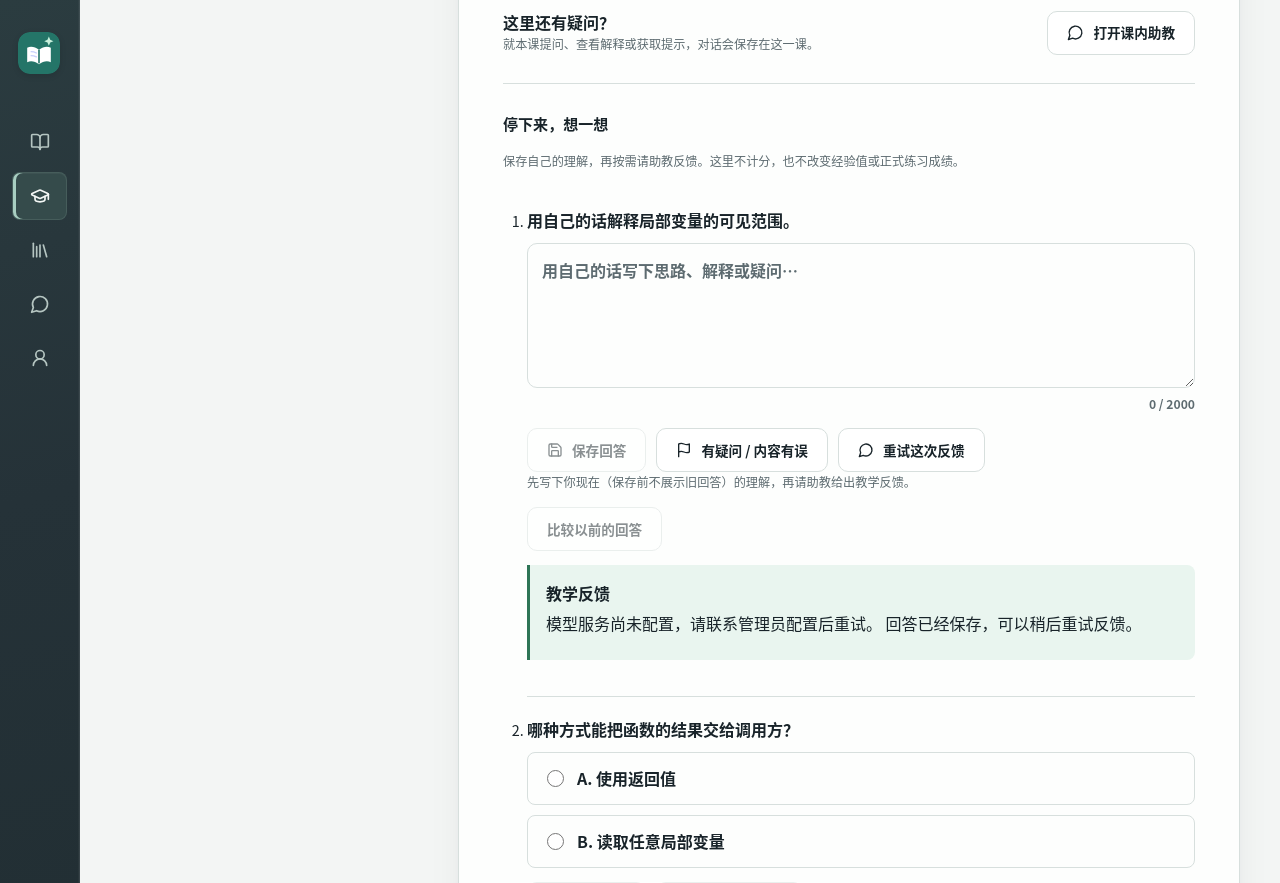
Test case: saved self checks and teaching feedback › retries a failed feedback turn while retaining its saved answer and attempt
(page scrolled)
Click the button "重试这次反馈" at (911, 450), box x1=838 y1=428 x2=985 y2=472
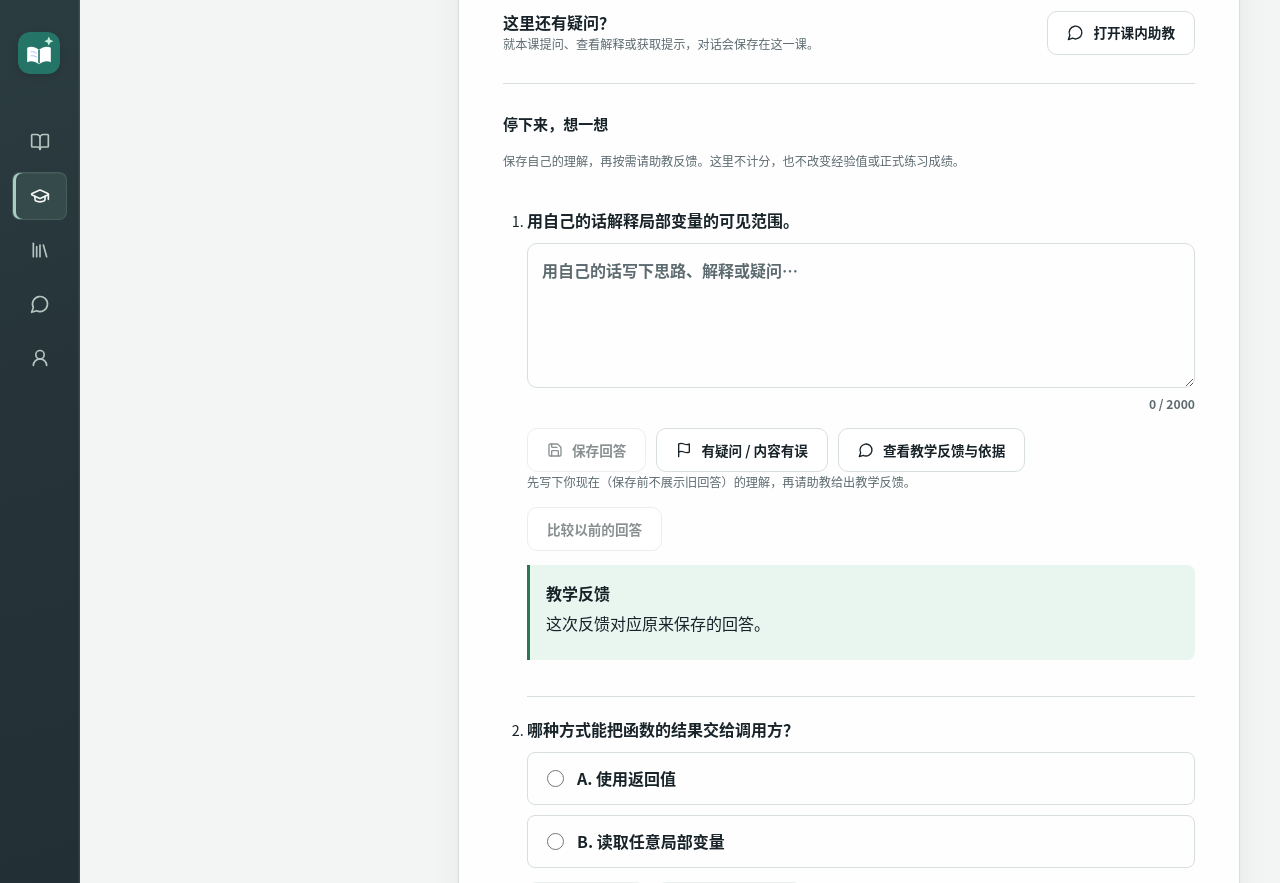
Check: the text box named "填写你的理解" is empty, box x1=527 y1=243 x2=1195 y2=388
Check: the text "这次反馈对应原来保存的回答。" is shown, box x1=546 y1=611 x2=770 y2=635
